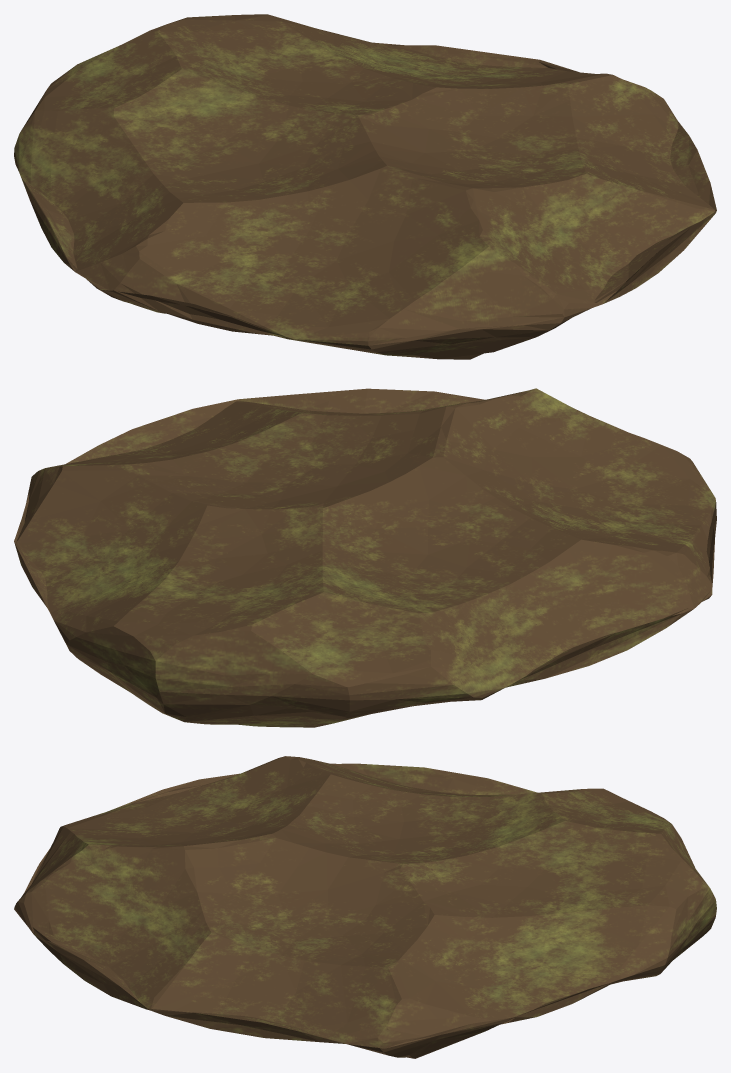
Rendered from Rock9.fbx.
3 views of the same model, one above another, from view 1: azimuth 30°, elevation 25°; view 2: azimuth 150°, elevation 25°; view 3: azimuth 270°, elevation 25° (orthographic). The views are drawn at different scales.
Visible parts, largest first — view 1: Icosphere; view 2: Icosphere; view 3: Icosphere.
Boxes of the visible parts, box(x1,y1,x2,y2) form: Icosphere: box(14, 14, 716, 359); Icosphere: box(14, 388, 716, 727); Icosphere: box(14, 756, 716, 1058).
Bounding box in the file's own units: 226 × 48.8 × 239.
1 material, 1 textured.
